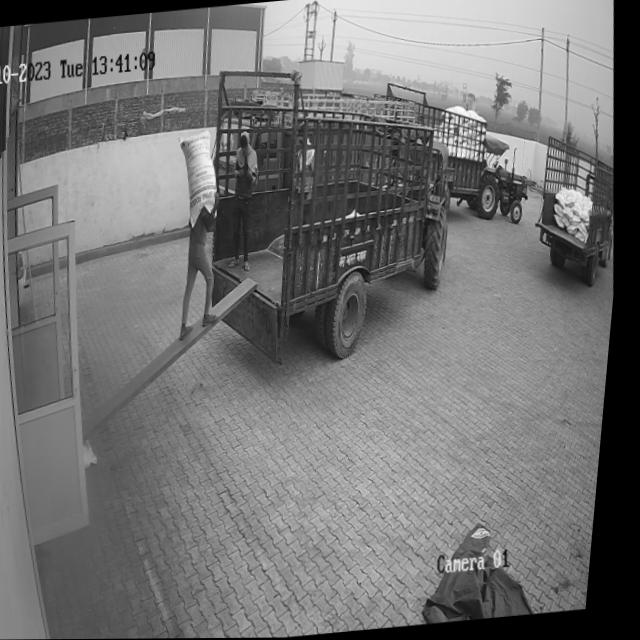sack: (173, 132, 226, 231)
